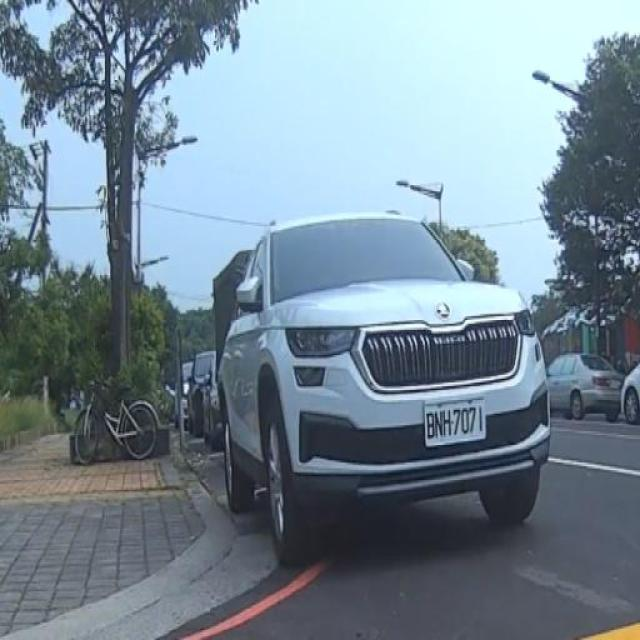illegalparking: (186, 193, 573, 584)
